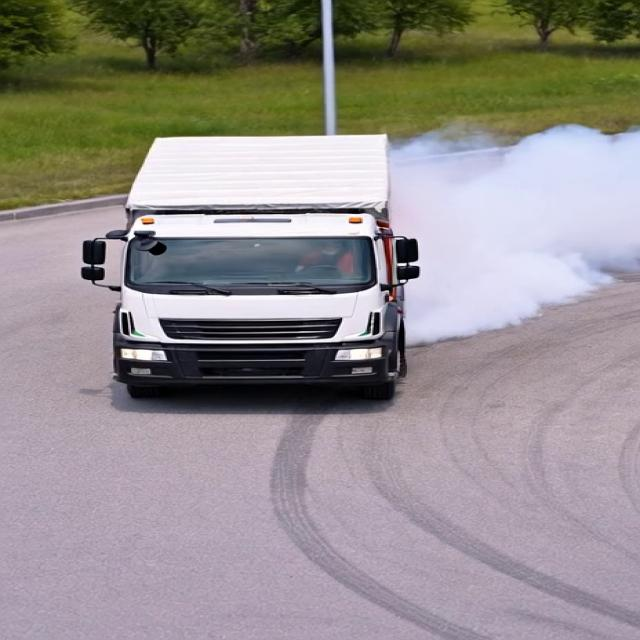Box: (124, 130, 410, 224)
Truck: (75, 107, 462, 410)
